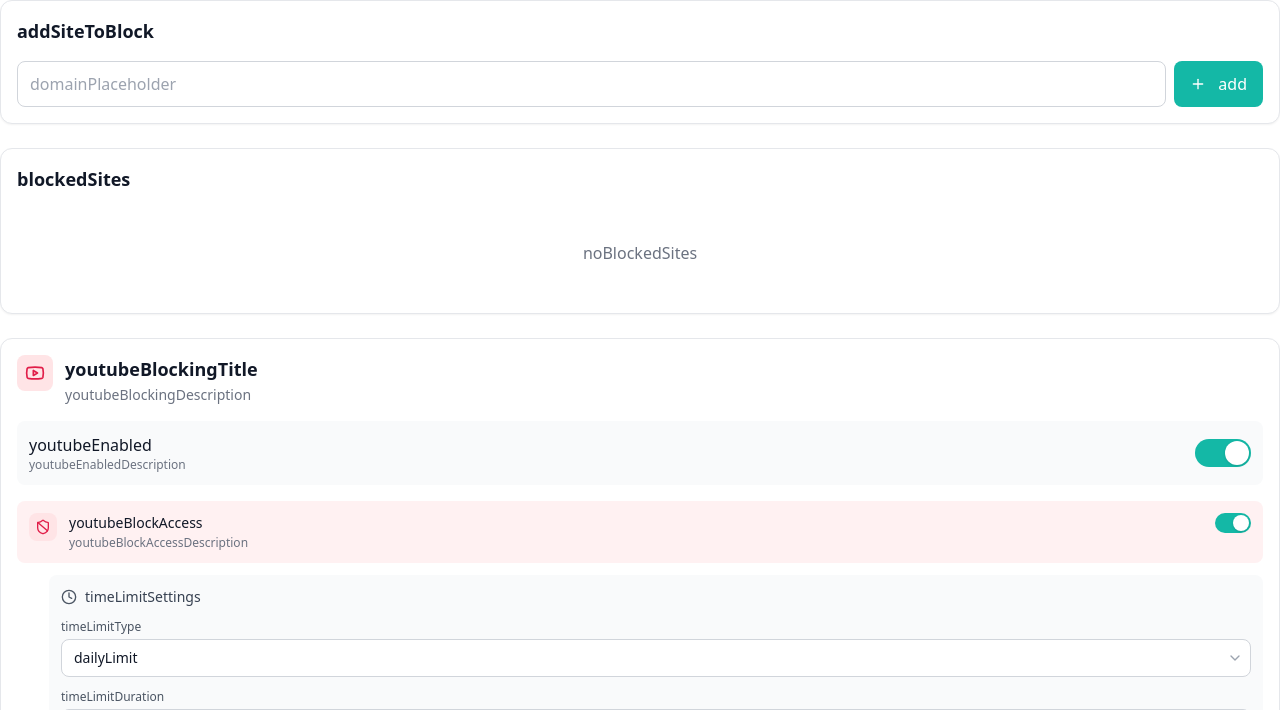
it: BlocklistTab › YouTube のブロックを弱める操作 › 時間制限があればブロック方式を 1 日の上限と表示する
Click the 2nd switch at (1233, 523), box [1215,513,1251,533]
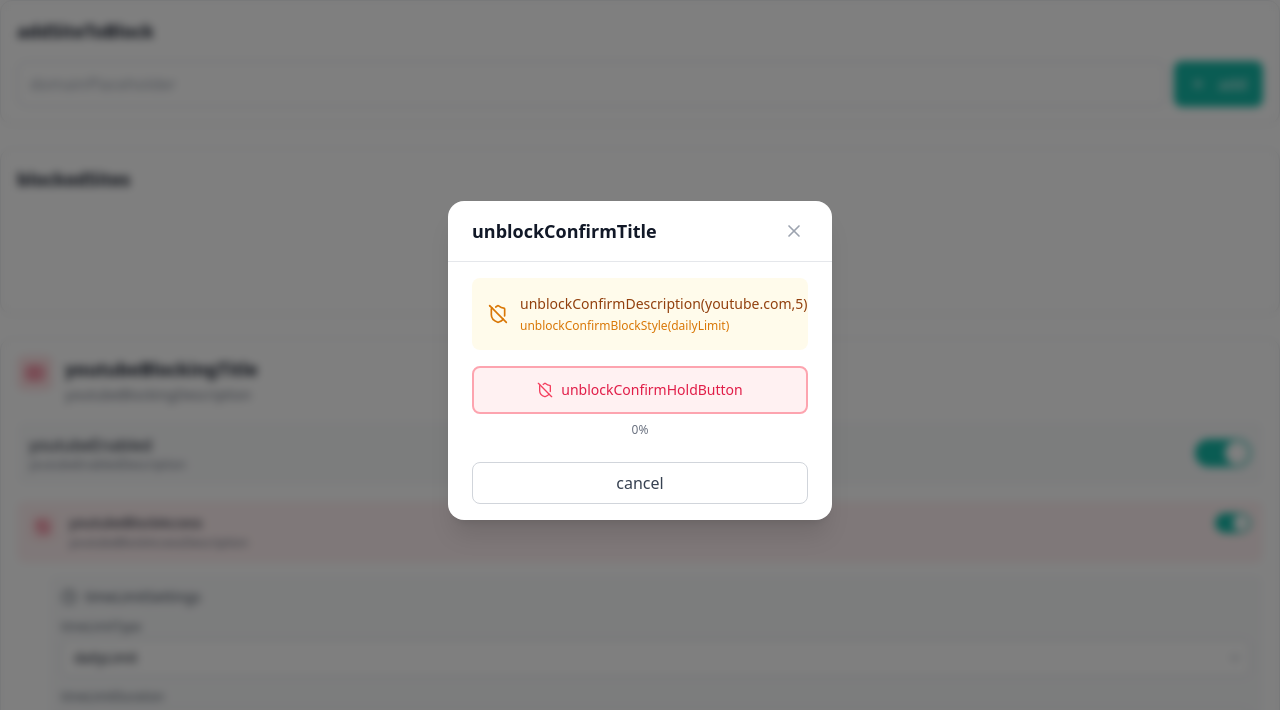
Check: the text "unblockConfirmBlockStyle(dailyLimit)" is shown, box [520,316,729,334]
